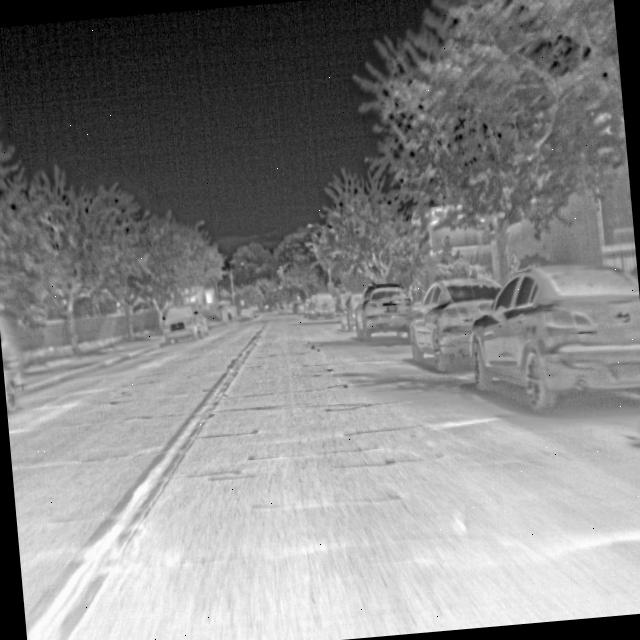Vehicle: (460, 253, 640, 420), (402, 269, 509, 377), (349, 278, 416, 346), (156, 300, 209, 346)
